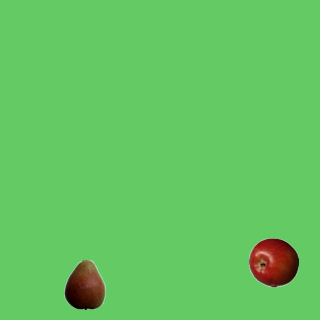Apple Braeburn: (248, 237, 298, 287)
Pear Forelle: (59, 259, 109, 309)
